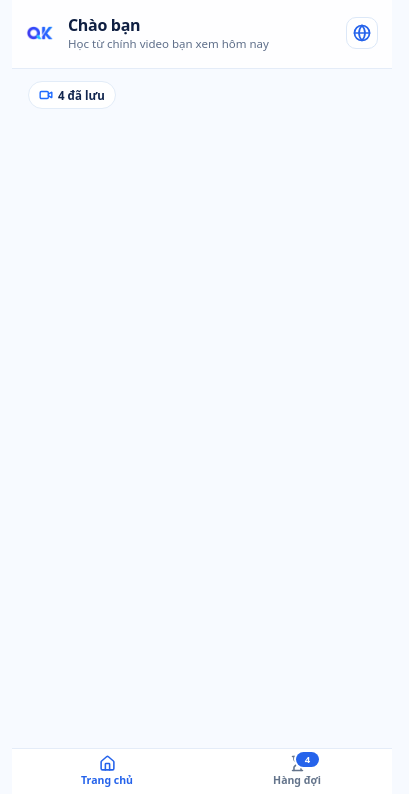
App — popup lưu trang hiện tại + hàng đợi › (r) card failed có nút Thử lại → updateLink về pending + chip cập nhật
Click the button with test id "tab-queue" at (297, 772), box [202,749,392,793]
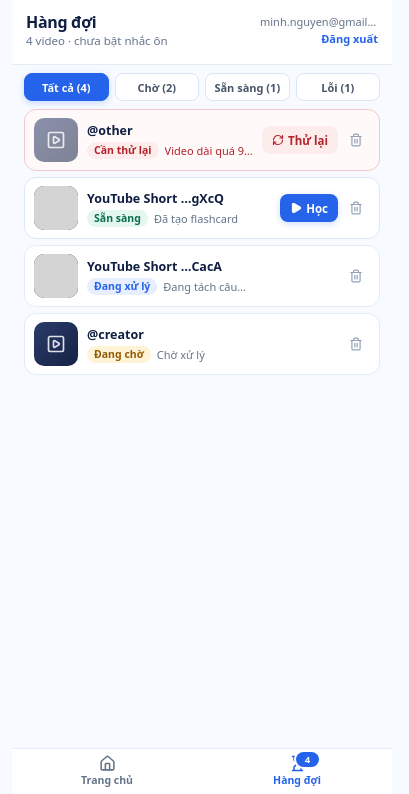
Click the button with test id "retry-link" at (300, 140), box [262,126,338,154]
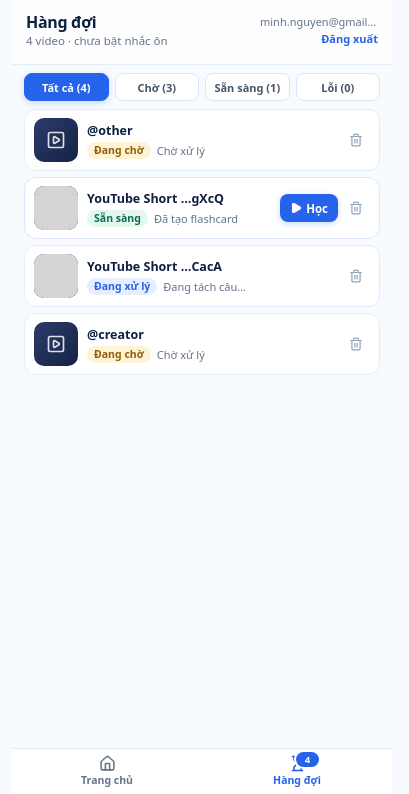
Check: the button with test id "filter-waiting" shows "3", box [114,73,199,101]
Check: the button with test id "filter-failed" shows "0", box [296,73,380,101]
